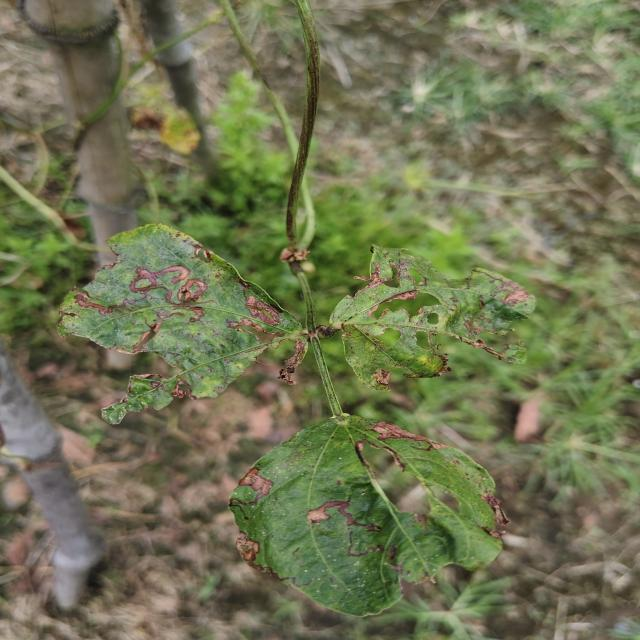leaf-moderate: (229, 412, 510, 617), (58, 224, 300, 425), (330, 245, 536, 390)
